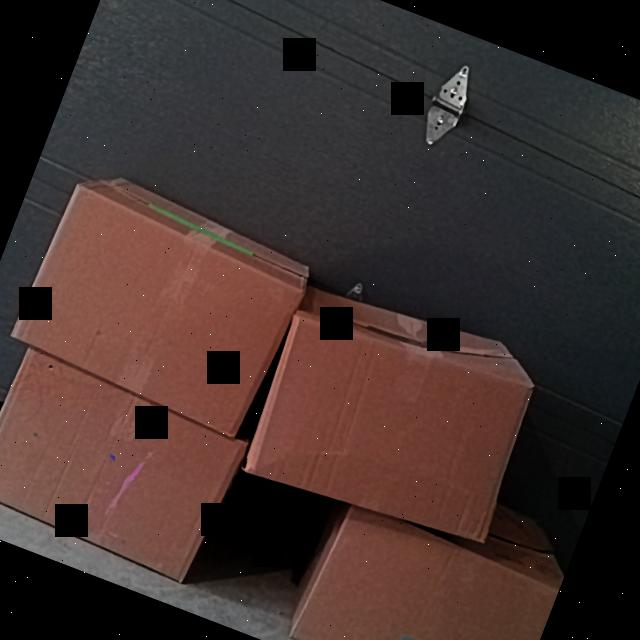box: (9, 184, 310, 437), (246, 304, 539, 548), (0, 350, 244, 578), (289, 507, 559, 640)
